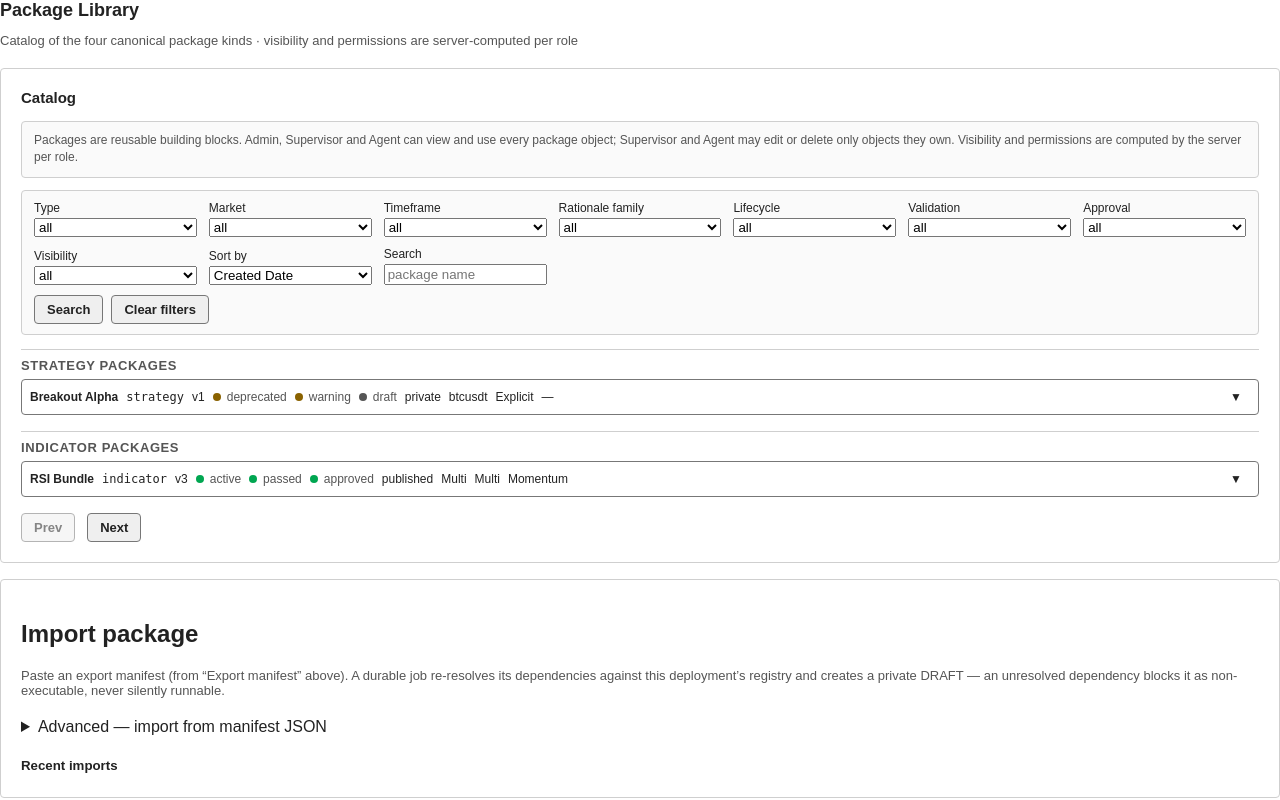
Test: Package Library Market + Timeframe facets (P-06) › shows Market and Timeframe in the expanded package detail
The width and height of the screenshot is (1280, 800).
Check: the text "RSI Bundle" is shown, box [30,472,94,486]
Click the button named "Detail" at [1236, 479], box [1222,465,1250,493]
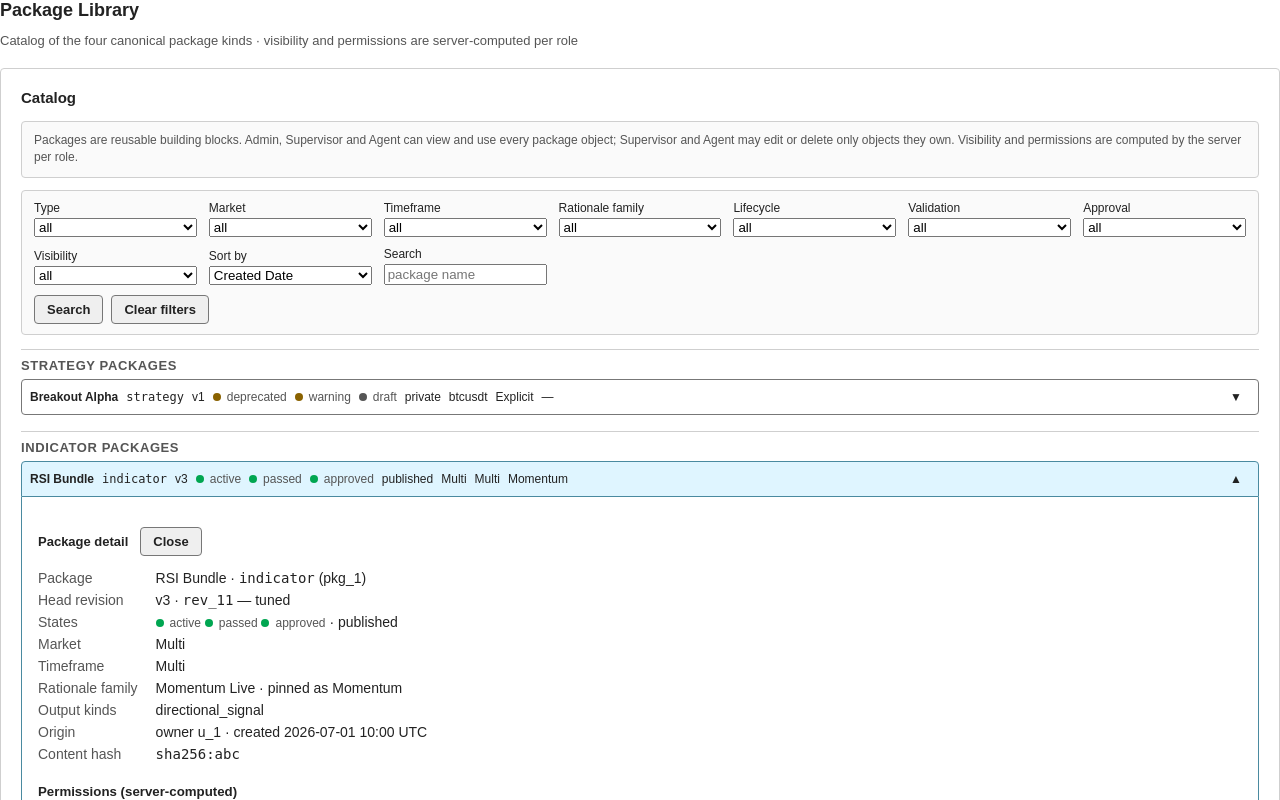
Check: the heading "Permissions (server-computed)" is shown, box [38,784,237,799]
